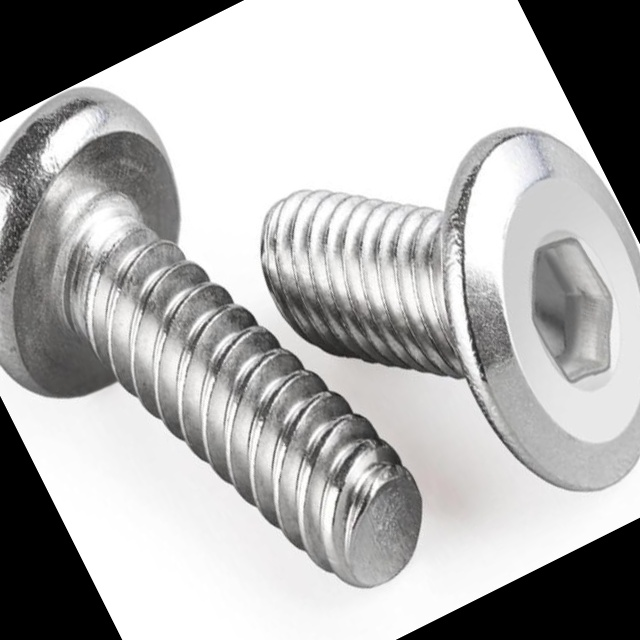allen: (501, 223, 640, 394)
